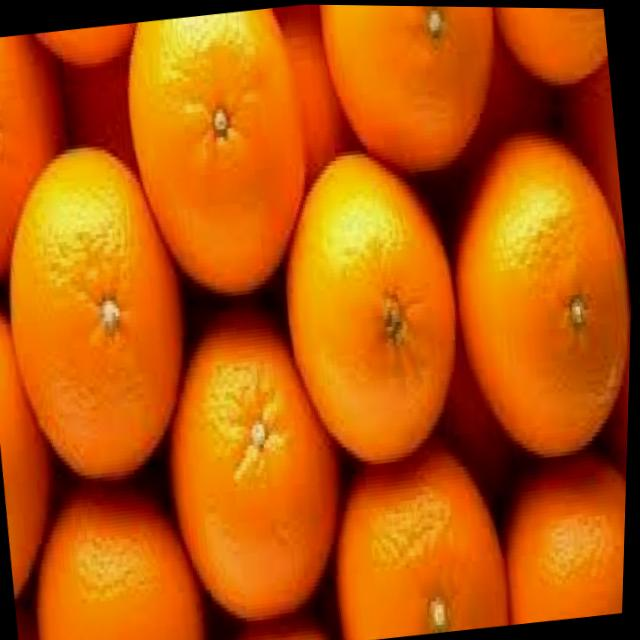orange: (265, 137, 484, 478), (0, 137, 203, 488), (437, 120, 637, 460), (151, 307, 356, 628), (118, 6, 323, 303), (324, 439, 516, 639), (318, 4, 512, 183), (27, 477, 212, 640), (494, 447, 630, 621), (0, 304, 74, 601), (0, 32, 80, 278), (492, 6, 611, 89)
